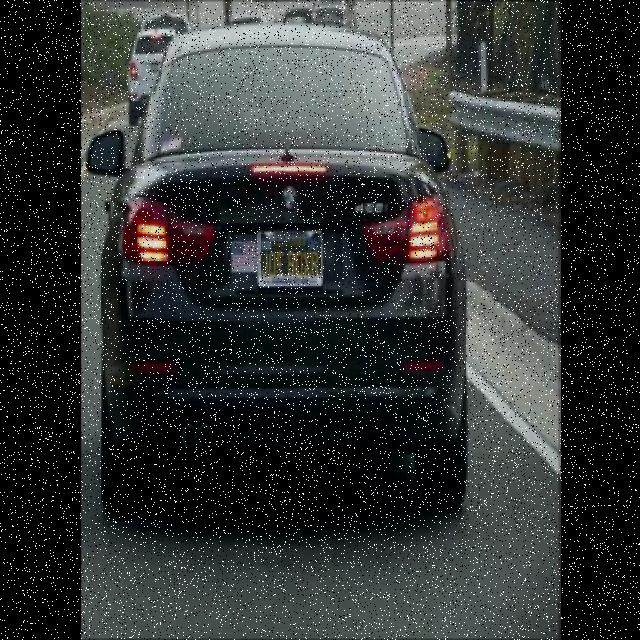licenseplate: (260, 225, 322, 284)
